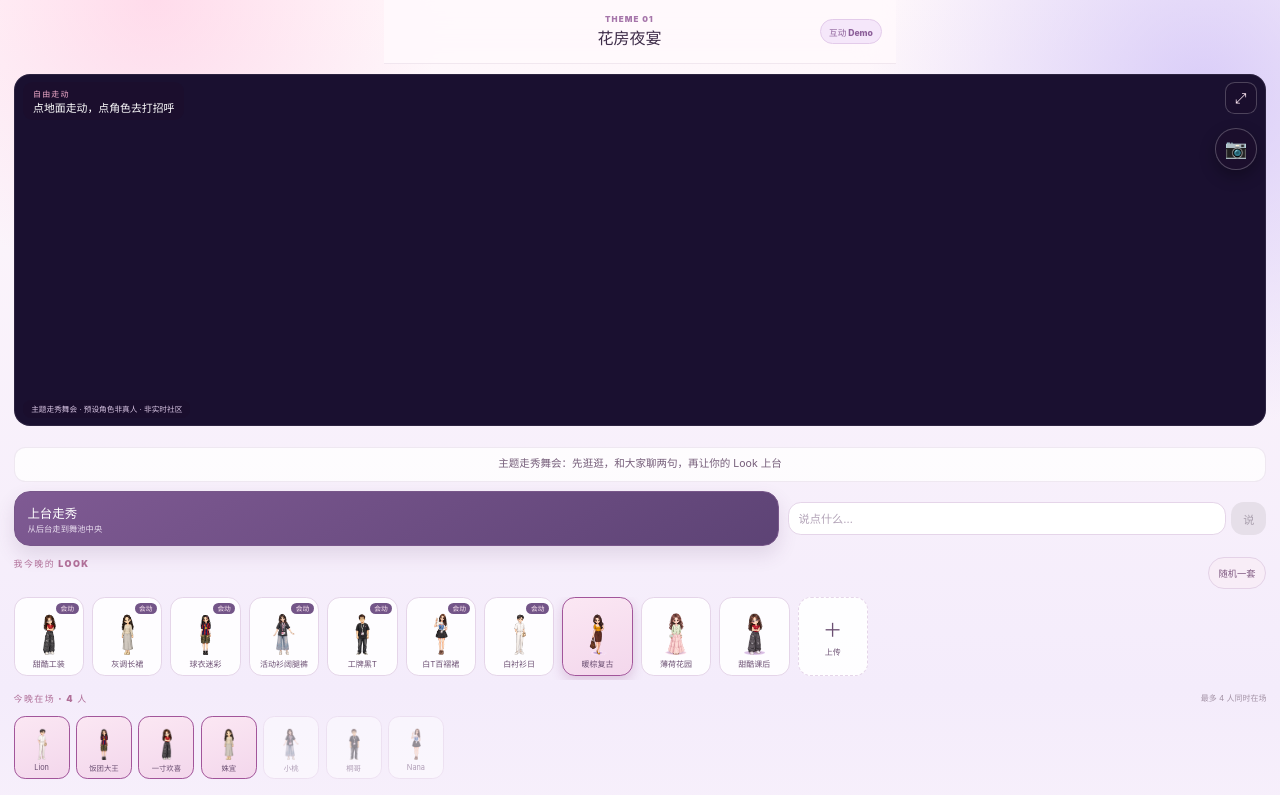
CommunityScreen › exports the group card and reports success
// The shutter freezes the frame, then offers the two formats.
Click the button named "拍合影". click: (1236, 149)
box: x1=1215 y1=128 x2=1257 y2=170
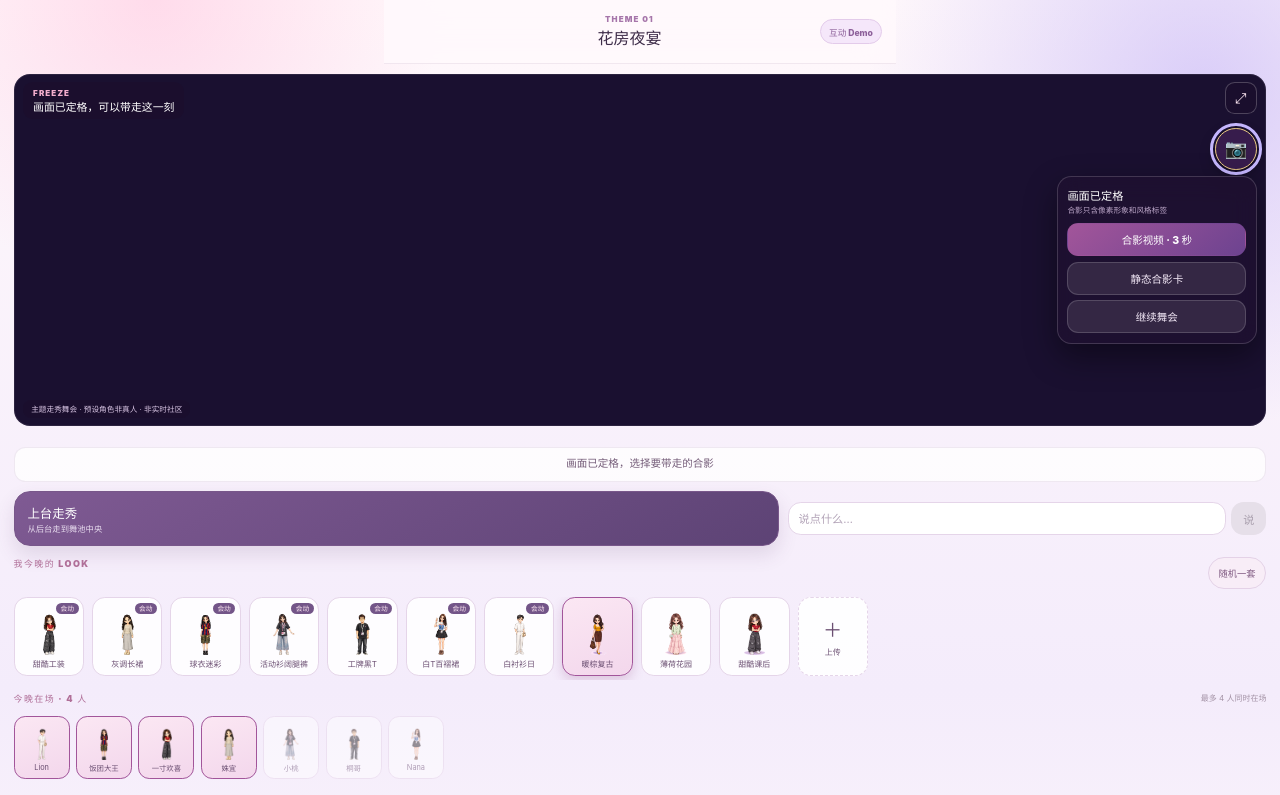
Click the button "静态合影卡". click: (1157, 278)
box: x1=1067 y1=262 x2=1246 y2=295
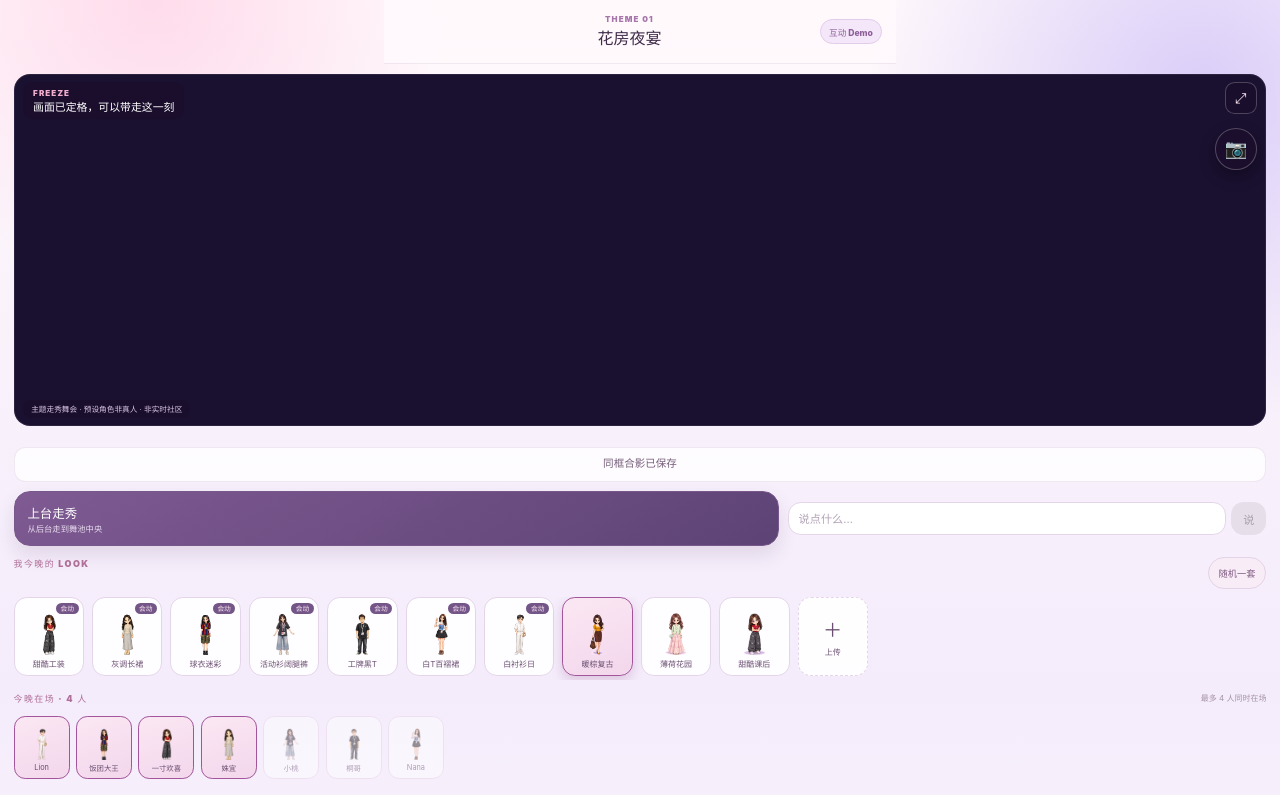
Now the message reads "同框合影已保存", box x1=603 y1=456 x2=677 y2=470
